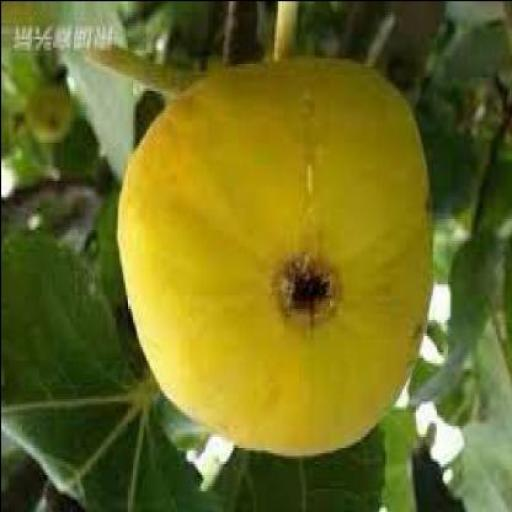biodegradable: (119, 54, 431, 460)
